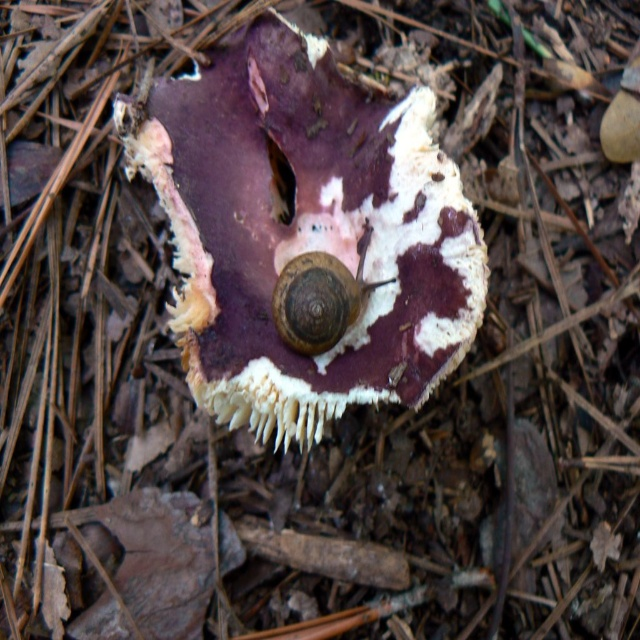Snail: (271, 252, 398, 361)
